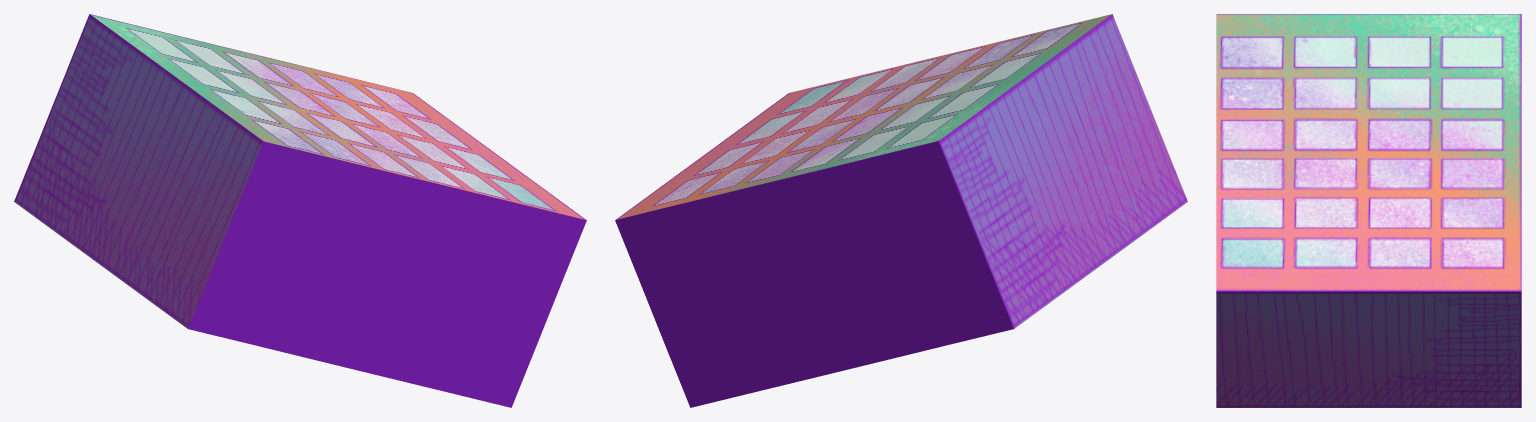
Rendered from Build_C_Bot.obj.
3 views of the same model, side by side, from view 1: azimuth 30°, elevation 25°; view 2: azimuth 150°, elevation 25°; view 3: azimuth 270°, elevation 25° (orthographic). The views are drawn at different scales.
Parts seen in each view (by area): view 1: Build_C_Bot; view 2: Build_C_Bot; view 3: Build_C_Bot.
Boxes of the visible parts, x1,y1,x2,y2 form: Build_C_Bot: [14, 14, 586, 407]; Build_C_Bot: [615, 14, 1187, 407]; Build_C_Bot: [1216, 14, 1521, 407].
Bounding box in the file's own units: 0.2852 × 0.2235 × 0.2153.
